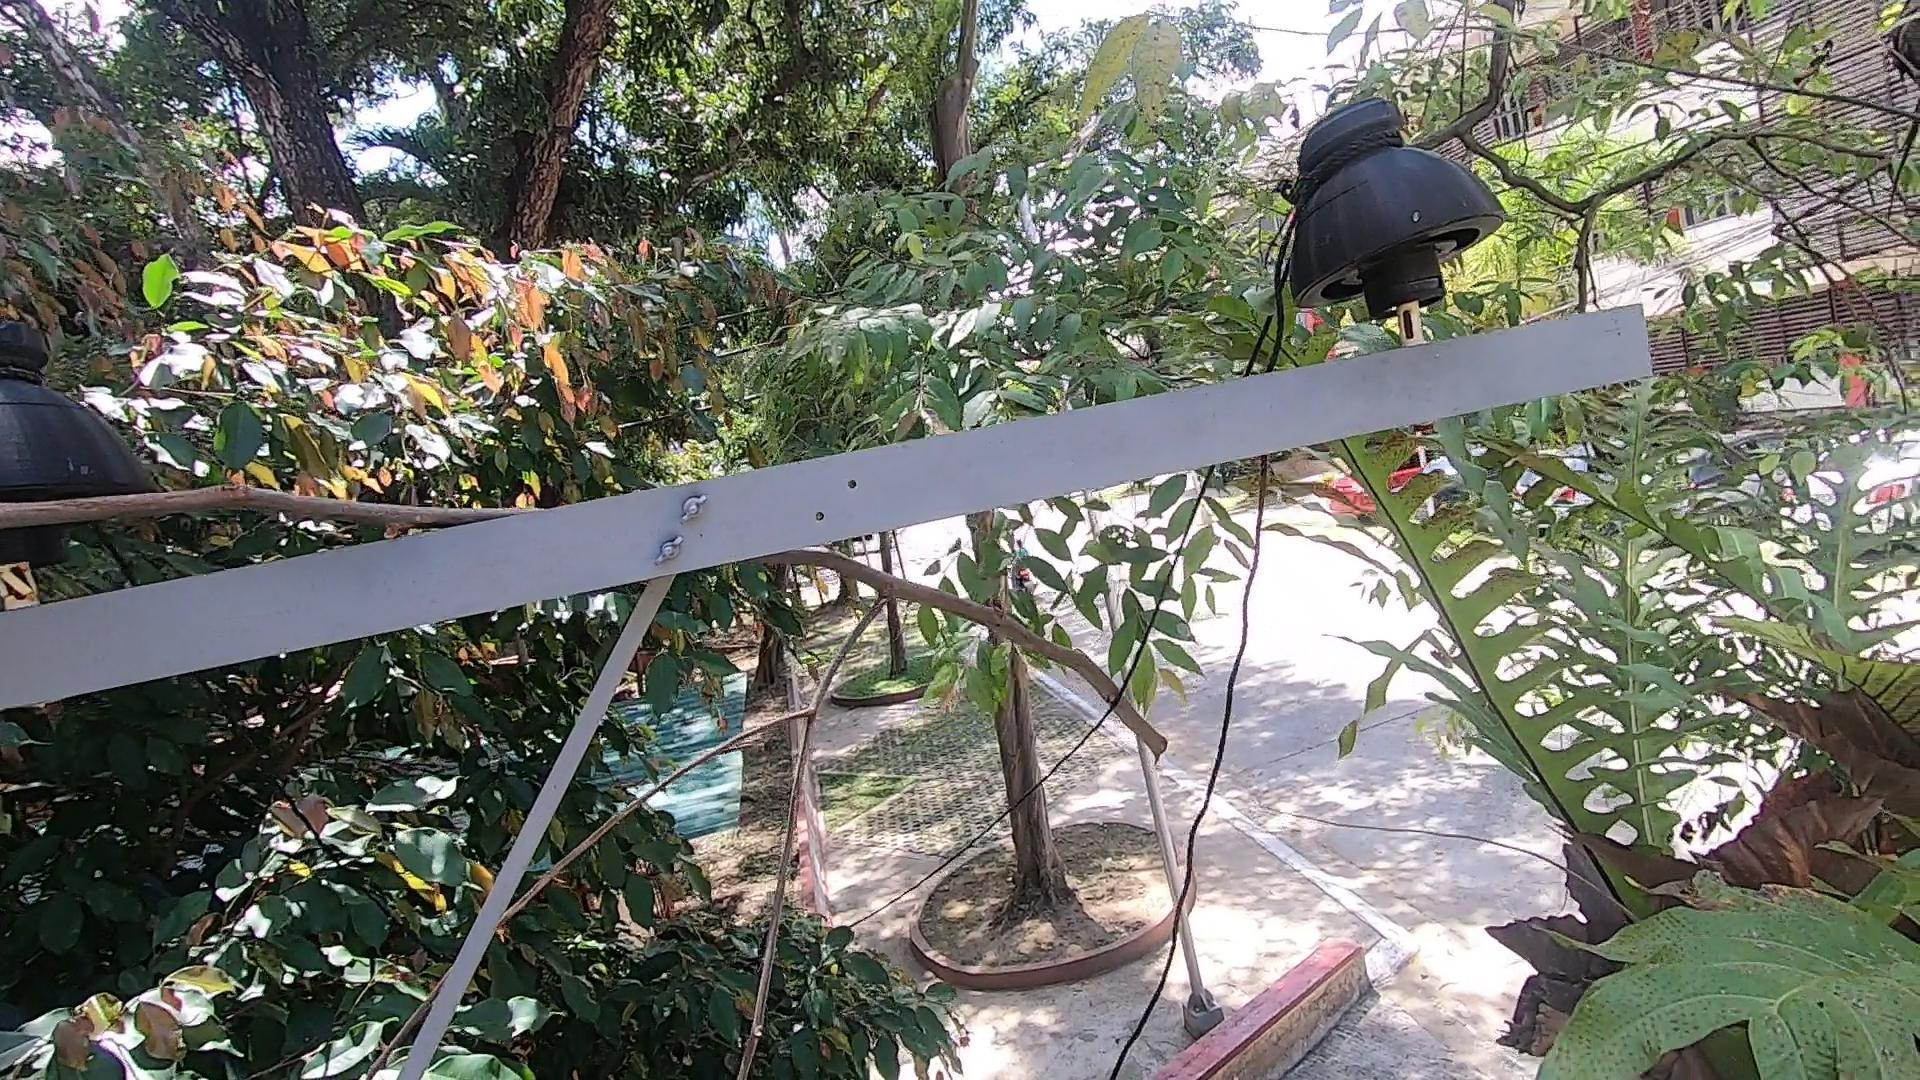tree branch: (328, 534, 1170, 1080), (1, 469, 527, 583)
